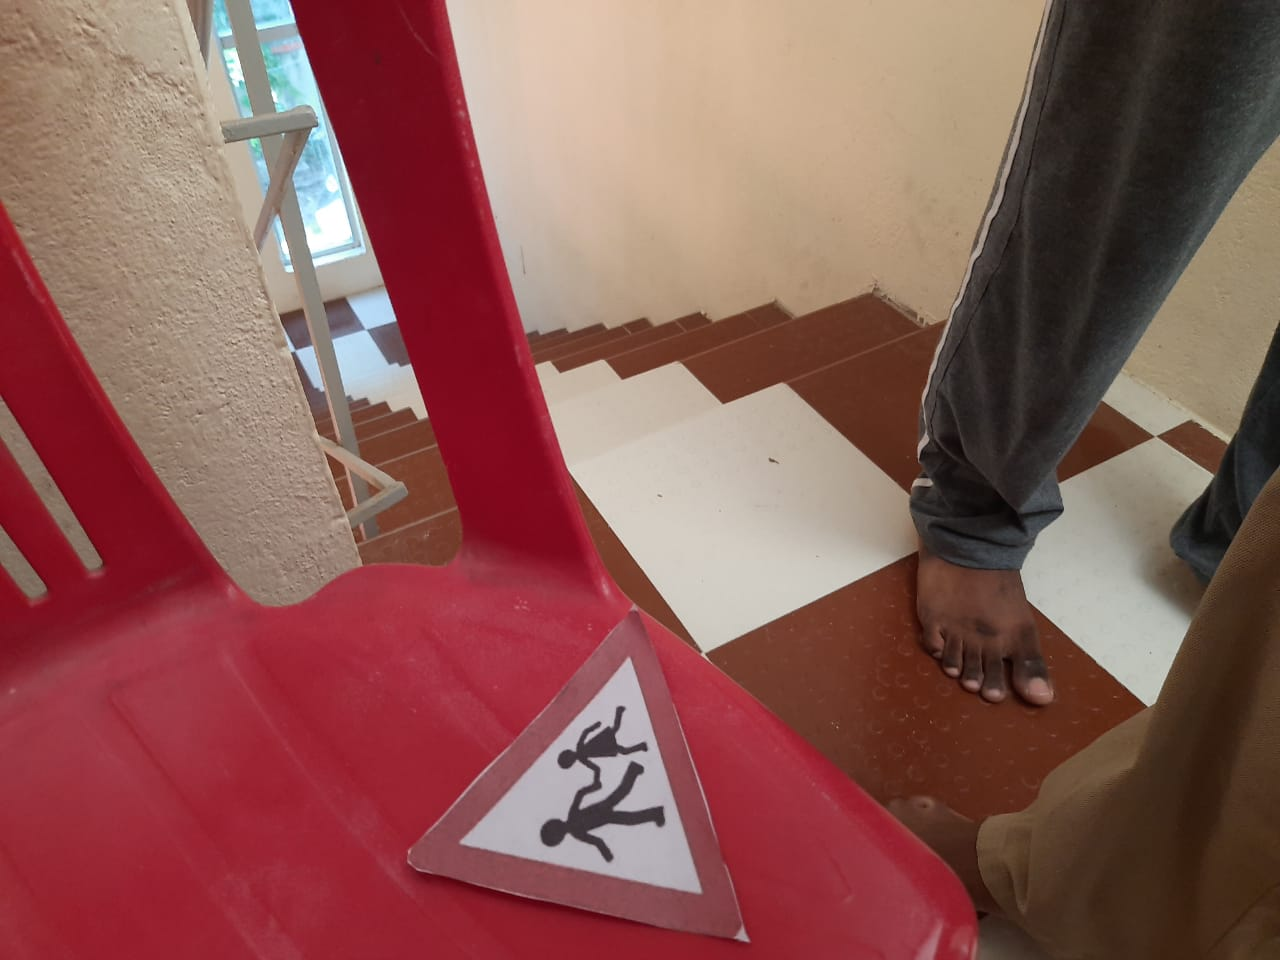SCHOOL ZONE: (394, 598, 765, 947)
